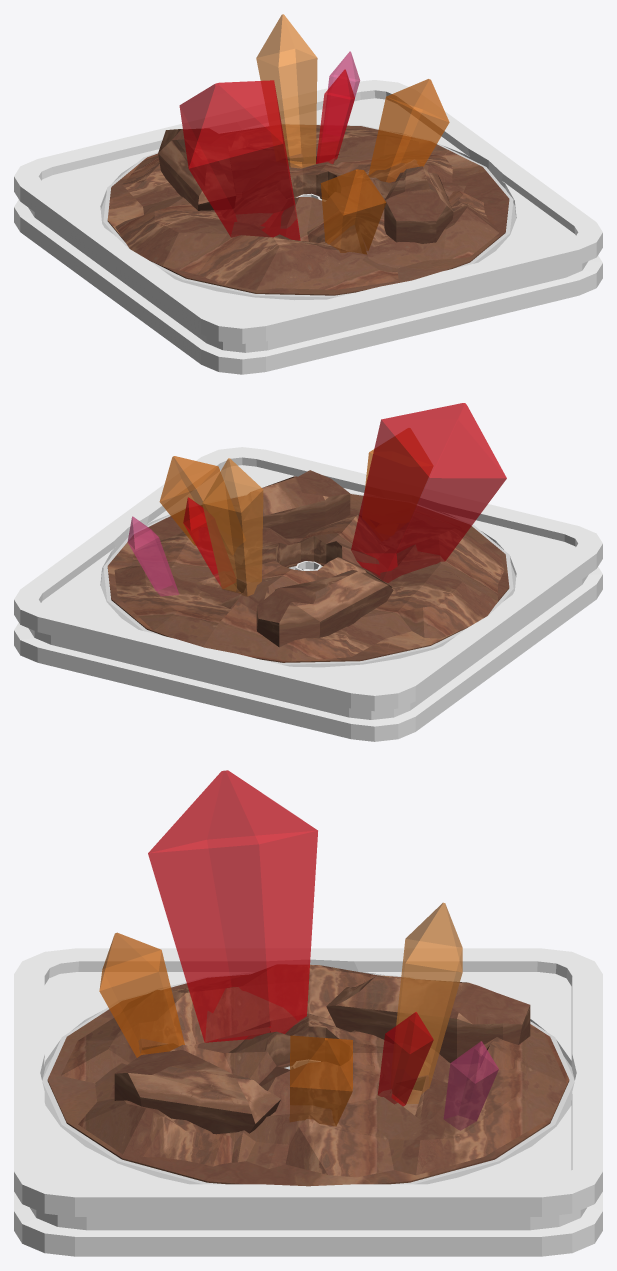
File: red.glb
3 renders of one model, top to bottom at view 1: azimuth 30°, elevation 25°; view 2: azimuth 150°, elevation 25°; view 3: azimuth 270°, elevation 25°, orthographic. The views are drawn at different scales.
Parts seen in each view (by area): view 1: 1.box, cd_cover 2, Cube.005, cd_cover 1, Cube.002, Cube.006, r2, Cube.004, r, Cube.003, Cube.001, cd_cover_backup (+1 smaller); view 2: 1.box, cd_cover 2, Cube.005, r2, Cube.002, r, cd_cover 1, Cube.004, Cube.006, Cube.001, Cube.003, cd_cover_backup (+1 smaller); view 3: 1.box, cd_cover 2, Cube.005, r2, cd_cover 1, r, Cube.002, Cube.004, Cube.006, Cube.003, Cube.001, cd_cover_backup (+1 smaller).
Boxes of the visible parts, x1,y1,x2,y2 form: 1.box: (14, 80, 602, 374); cd_cover 2: (115, 126, 499, 290); Cube.005: (179, 80, 300, 240); cd_cover 1: (107, 124, 509, 295); Cube.002: (256, 14, 317, 168); Cube.006: (368, 79, 449, 182); r2: (158, 128, 235, 210); Cube.004: (320, 169, 386, 254); r: (384, 166, 453, 243); Cube.003: (316, 69, 354, 163); Cube.001: (322, 51, 360, 140); cd_cover_backup: (103, 124, 513, 297); 1.box: (14, 447, 602, 741); cd_cover 2: (114, 506, 504, 661); Cube.005: (351, 403, 506, 582); r2: (256, 569, 393, 647); Cube.002: (202, 458, 263, 596); r: (234, 470, 350, 538); cd_cover 1: (107, 494, 509, 662); Cube.004: (362, 428, 432, 535); Cube.006: (159, 456, 245, 545); Cube.001: (127, 516, 179, 596); Cube.003: (183, 497, 234, 588); cd_cover_backup: (103, 493, 513, 664); 1.box: (14, 948, 602, 1256); cd_cover 2: (61, 964, 566, 1177); Cube.005: (148, 770, 317, 1042); r2: (326, 976, 530, 1063); cd_cover 1: (47, 975, 569, 1186); r: (114, 1050, 280, 1134); Cube.002: (392, 902, 462, 1103); Cube.004: (99, 932, 184, 1057); Cube.006: (289, 1035, 352, 1126); Cube.003: (377, 1012, 433, 1106); Cube.001: (443, 1041, 498, 1130); cd_cover_backup: (42, 973, 574, 1184).
Size of the model in its own units: 2.02 by 1.08 by 2.02.
7 materials, 1 textured.
